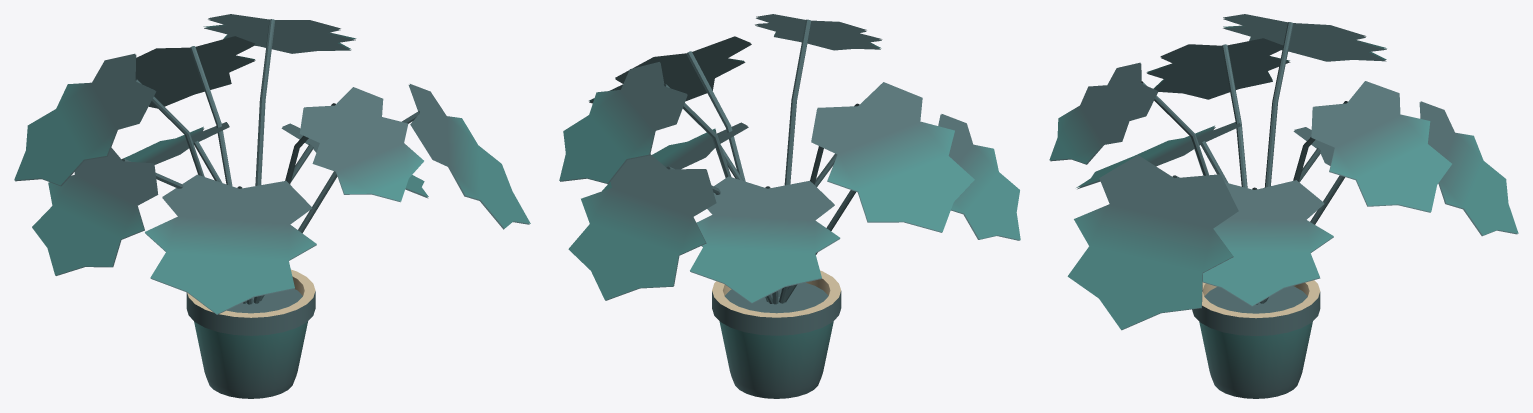
Rendered from KC32__AD_Int_Plant_Monstera.glb.
3 views of the same model, side by side, from view 1: azimuth 30°, elevation 25°; view 2: azimuth 150°, elevation 25°; view 3: azimuth 270°, elevation 25° (orthographic).
Parts seen in each view (by area): view 1: KC32_CORPS__AD_Int_Plant_Monstera, KC32_BRONZE__AD_Int_Plant_Monstera; view 2: KC32_CORPS__AD_Int_Plant_Monstera, KC32_BRONZE__AD_Int_Plant_Monstera; view 3: KC32_CORPS__AD_Int_Plant_Monstera, KC32_BRONZE__AD_Int_Plant_Monstera.
Boxes of the visible parts, x1=… form: KC32_CORPS__AD_Int_Plant_Monstera: x1=14, y1=14, x2=530, y2=398; KC32_BRONZE__AD_Int_Plant_Monstera: x1=187, y1=269, x2=315, y2=317; KC32_CORPS__AD_Int_Plant_Monstera: x1=559, y1=14, x2=1020, y2=398; KC32_BRONZE__AD_Int_Plant_Monstera: x1=712, y1=270, x2=840, y2=317; KC32_CORPS__AD_Int_Plant_Monstera: x1=1049, y1=14, x2=1518, y2=398; KC32_BRONZE__AD_Int_Plant_Monstera: x1=1202, y1=280, x2=1320, y2=318.
Size of the model in its own units: 2.06 by 1.41 by 1.89.
